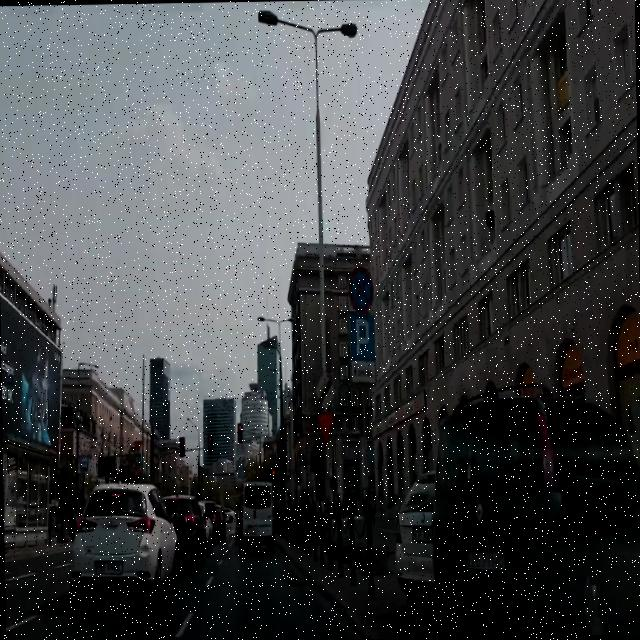Przejscie dla pieszych: (134, 451, 141, 466)
Ustap pierwszenstwa: (316, 412, 333, 444), (132, 440, 142, 452)
Zakaz zatrzymywania sie: (348, 264, 374, 312)
